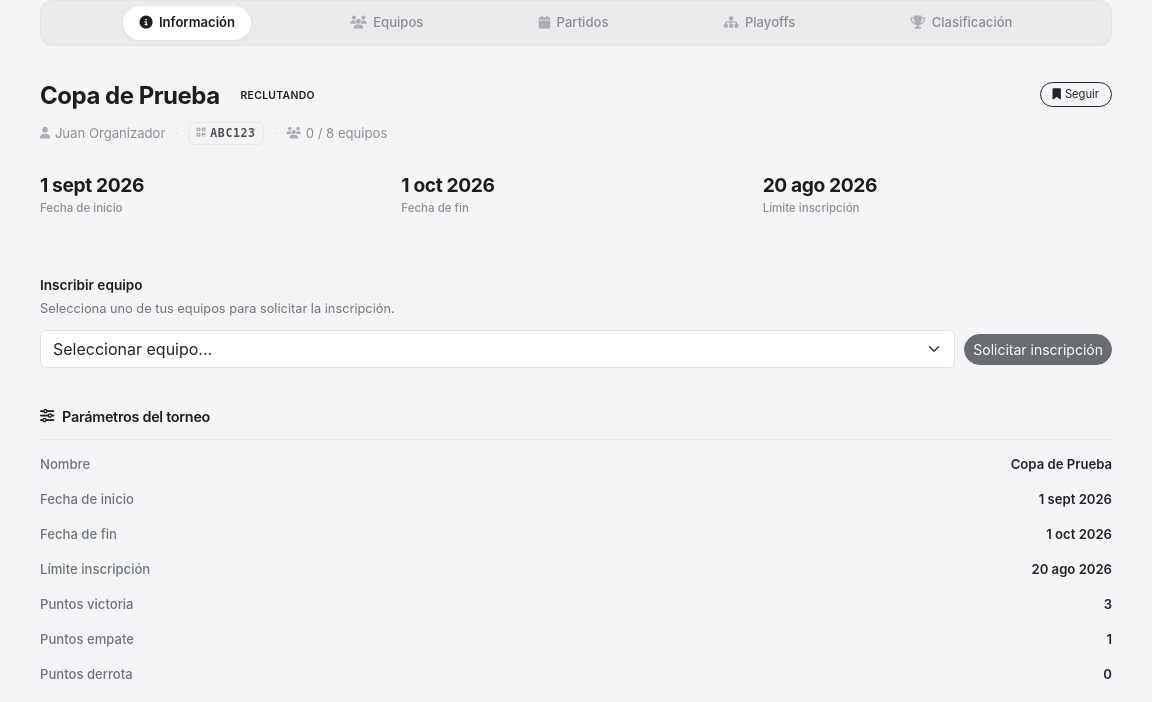
it: TournamentDetail › solicita la inscripcion de un equipo como usuario no organizador
The width and height of the screenshot is (1152, 702).
expect the text "Inscribir equipo" is shown: met, box [40,277,142,293]
Select "Los Reyes" in the dropdown with class "td-enroll-select" at (497, 349), box [40,330,955,368]
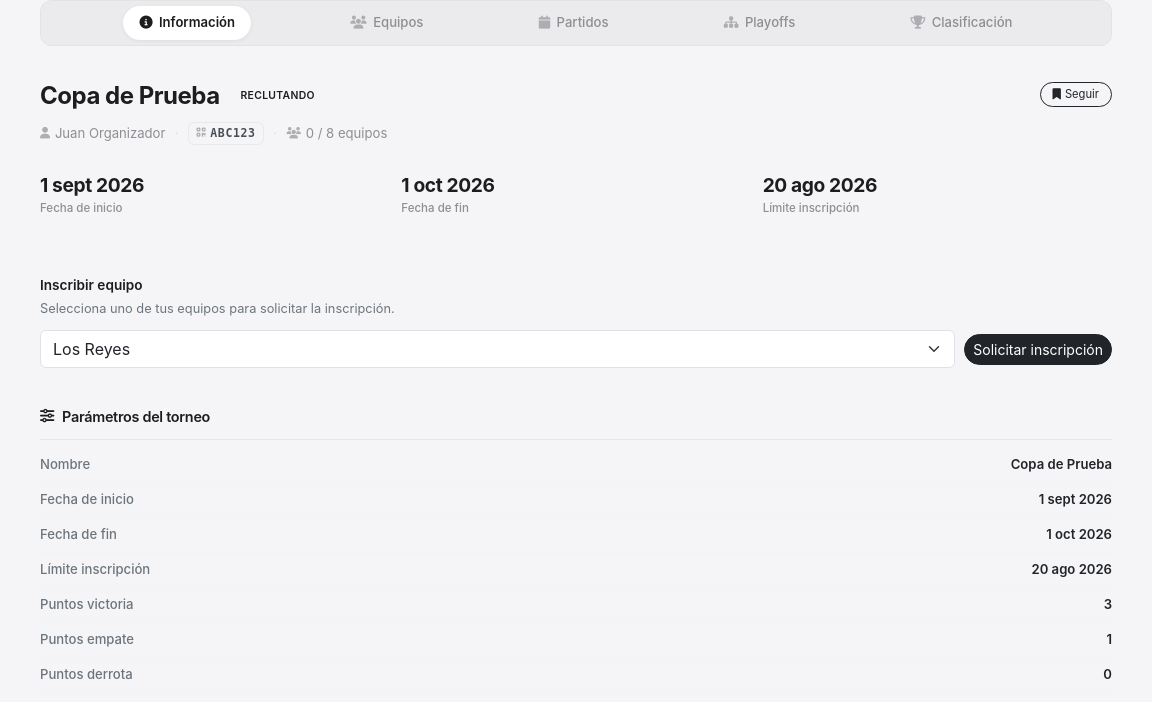
Click the button "Solicitar inscripción".
click(1038, 349)  # box [964,334,1112,364]
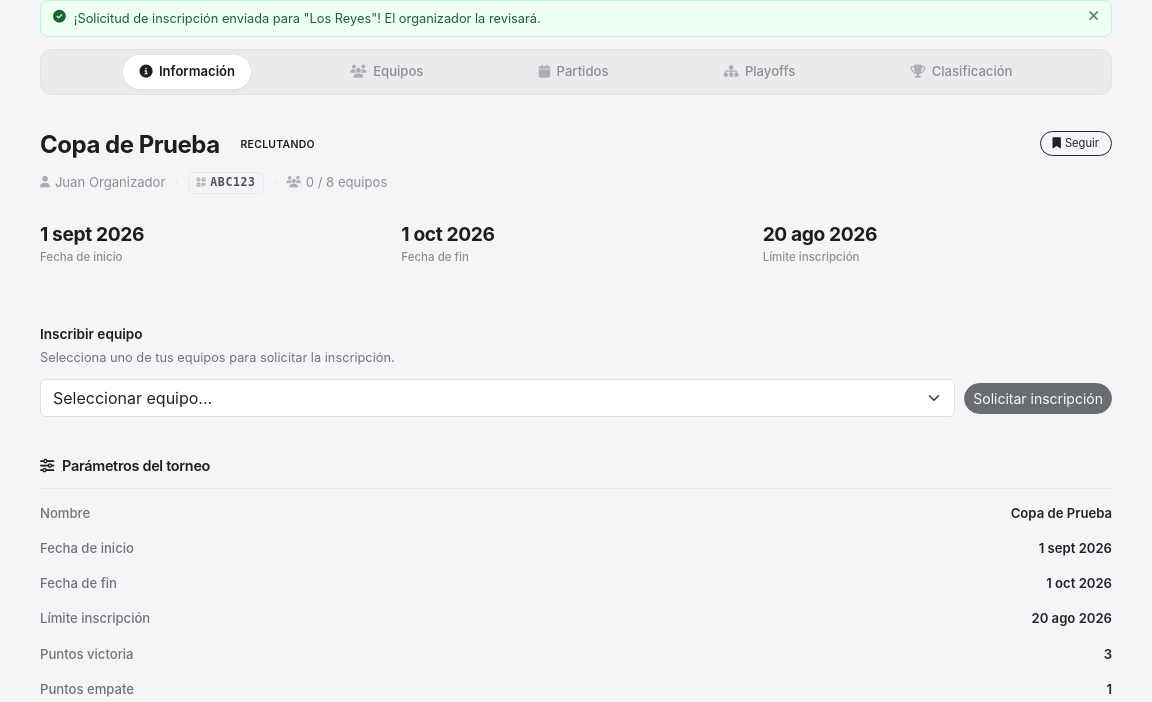
expect the text "Solicitud de inscripción enviada para \"Los Reyes\"" is shown: met, box [74,11,541,26]
